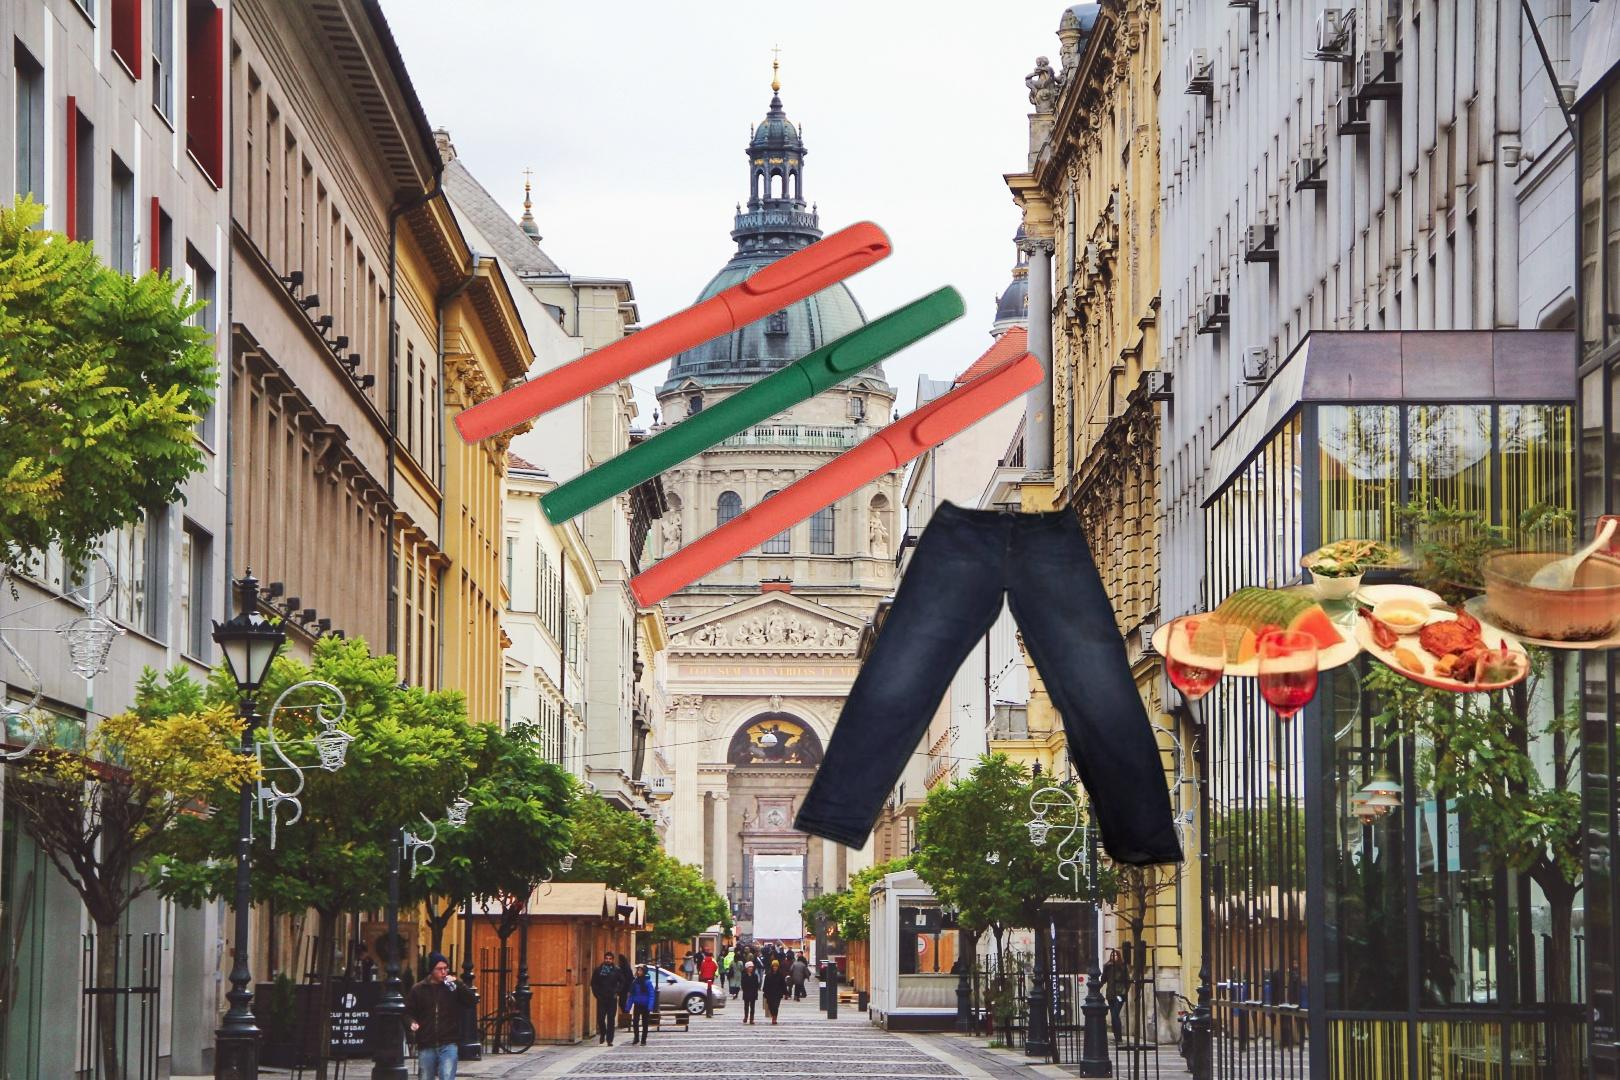biological: (1102, 388, 1620, 730)
clothes: (790, 495, 1188, 871)
penholder: (447, 216, 1053, 612)
